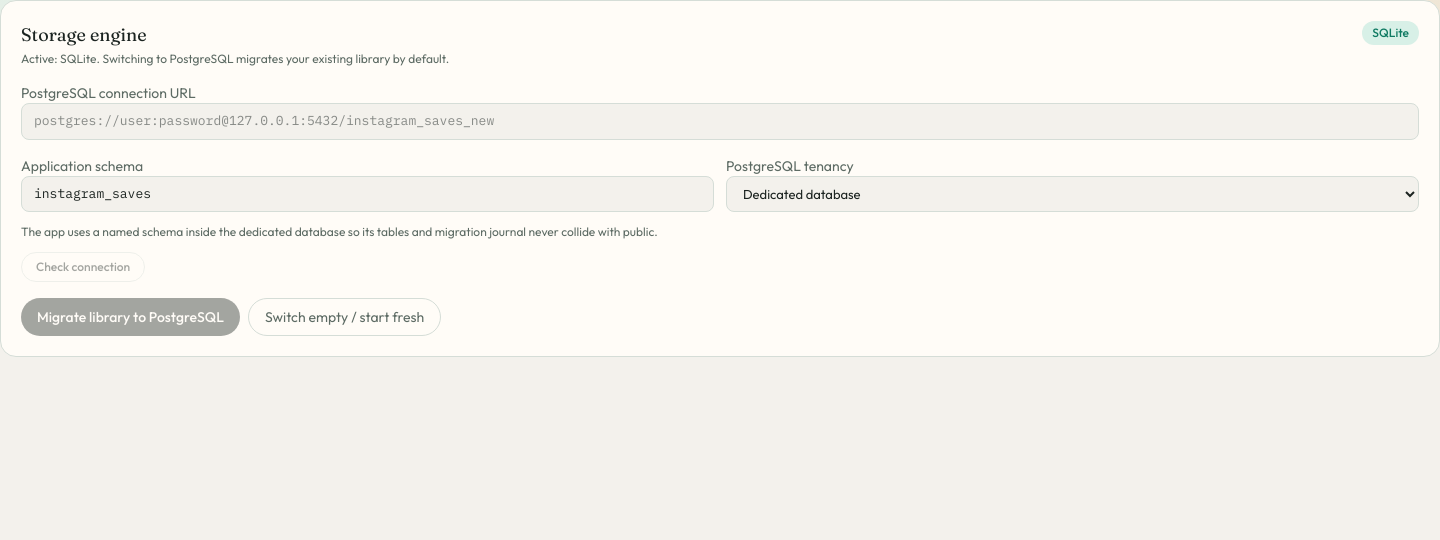
it: StorageEngineSwitcher › preflights a dedicated database, redacts its URL, and shows admin copy
In the password field labelled "PostgreSQL connection URL": point(720, 121) [21, 103, 1419, 140], type "postgres://operator:very-secret@localhost/library"
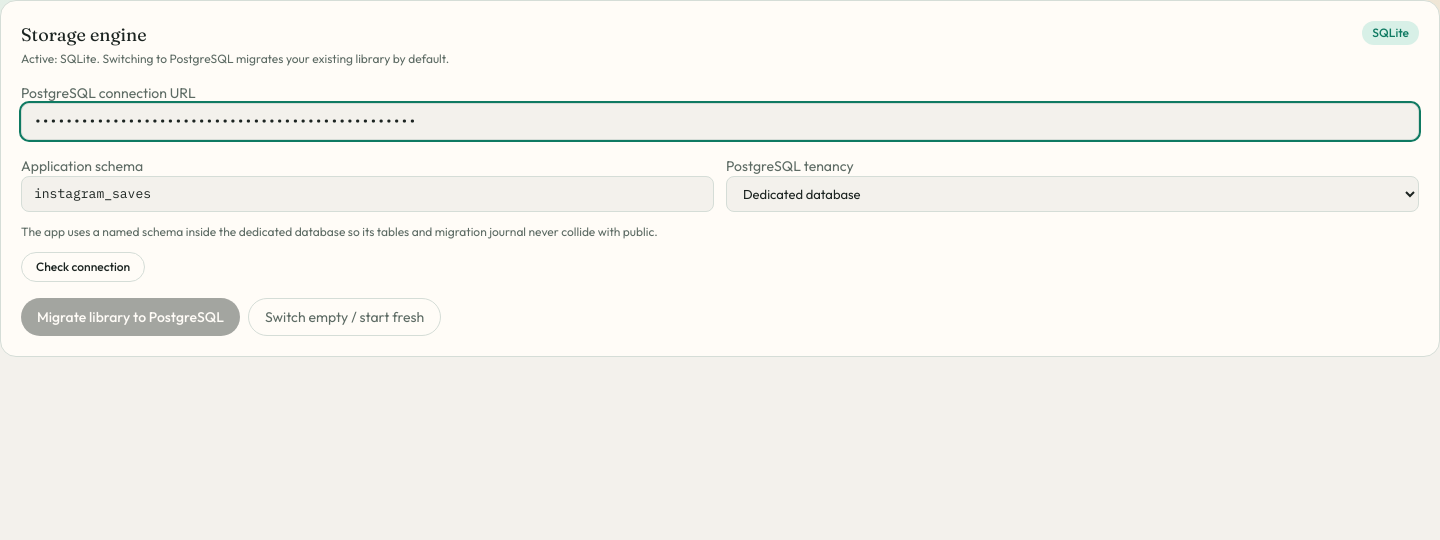
Click the button "Check connection": point(83, 267) [21, 252, 145, 282]
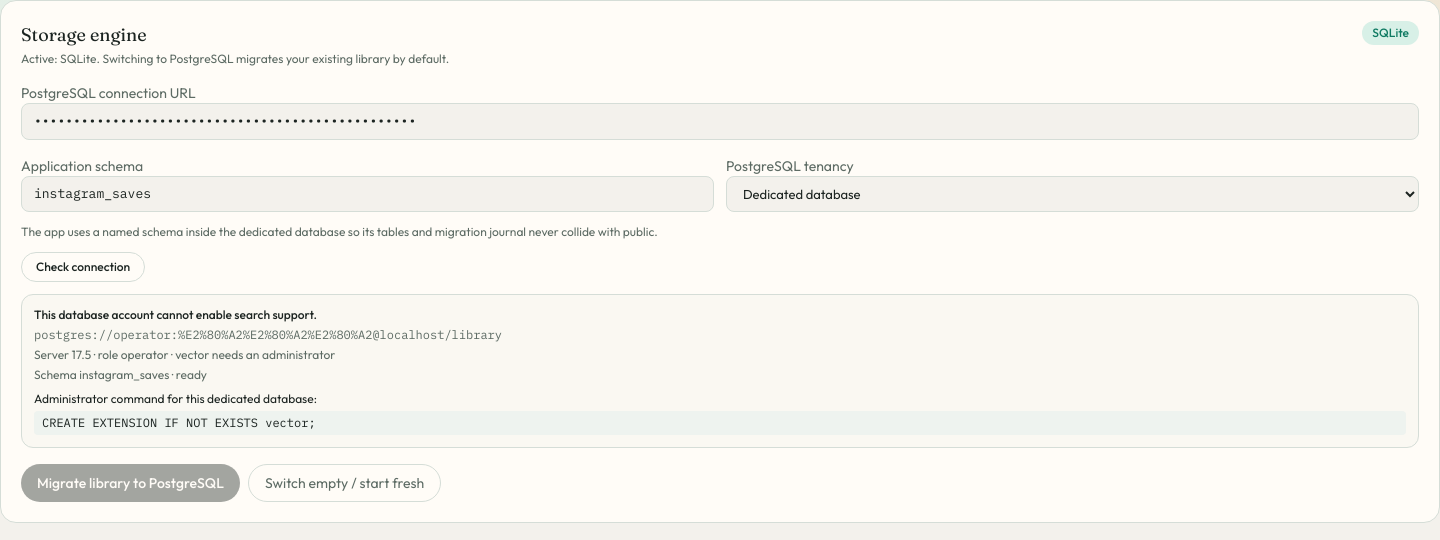
Expected: the button "Migrate library to PostgreSQL" is disabled, [21, 464, 240, 502]
Result: the text "This database account cannot enable search support." is shown at [34, 307, 317, 322]
Result: the text "CREATE EXTENSION IF NOT EXISTS vector;" is shown at [34, 411, 1406, 435]
